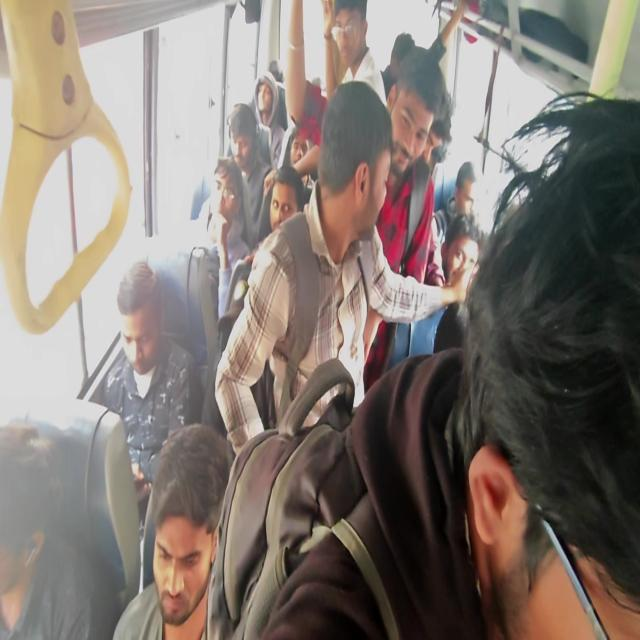person: (155, 401, 216, 640), (0, 398, 70, 586), (118, 262, 176, 398), (319, 129, 369, 272), (333, 1, 387, 86), (423, 92, 459, 190), (435, 245, 476, 323), (202, 170, 245, 238), (388, 64, 422, 148), (228, 110, 263, 167), (449, 176, 478, 228), (288, 124, 311, 178), (269, 182, 289, 240), (256, 78, 277, 126), (390, 39, 414, 66), (269, 52, 287, 87)
